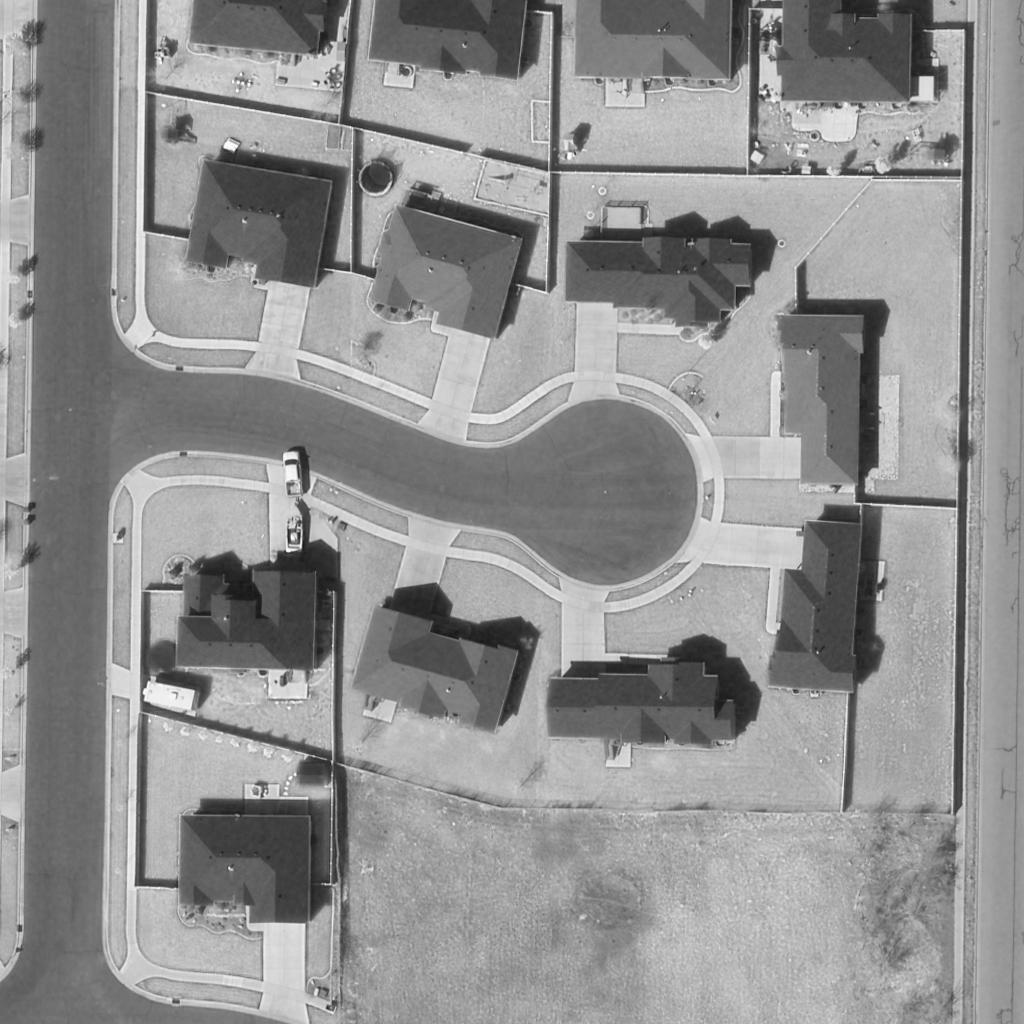vehicle: (145, 677, 197, 715), (281, 450, 309, 500), (285, 502, 305, 556)
